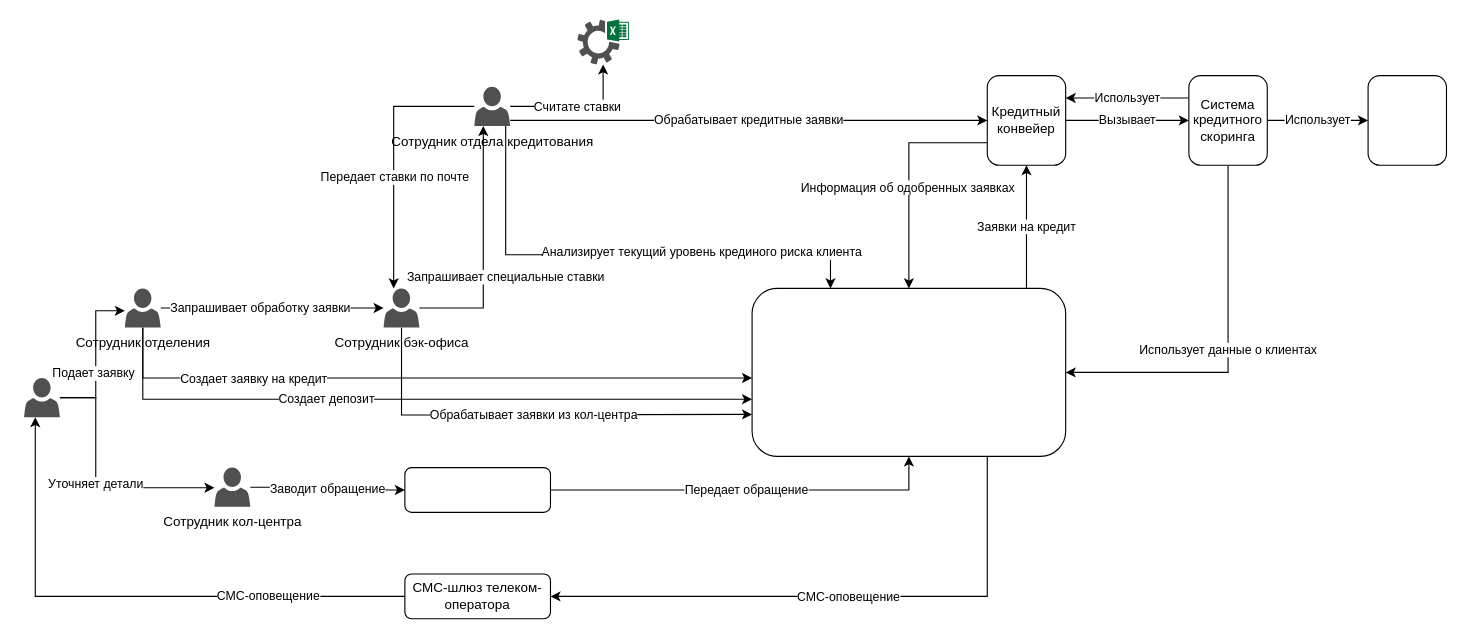
The diagram is 1466 pixels wide and 638 high, and some of its shapes have lost their labels. Each missing label, with the centre of its shape:
"АБС" belongs at point 908,371.
"Бюро кредитных историй" belongs at point 1406,119.
"Клиент" belongs at point 41,397.
"Система кол-центра" belongs at point 477,489.
